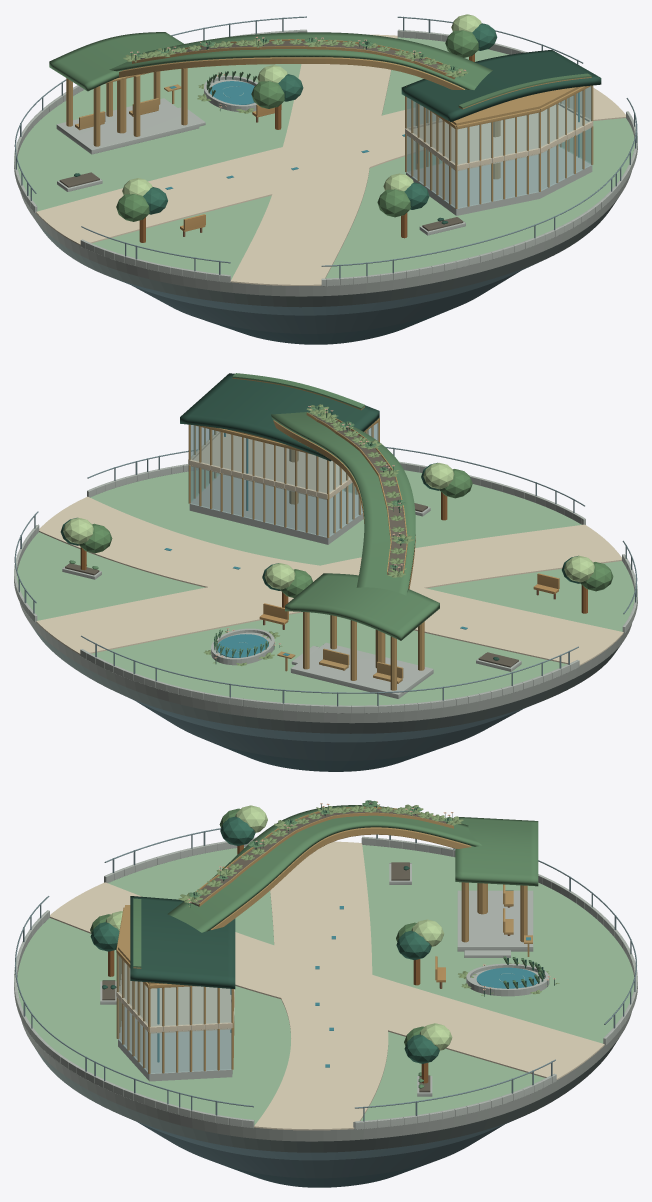
3 renders of one model, top to bottom at view 1: azimuth 30°, elevation 25°; view 2: azimuth 150°, elevation 25°; view 3: azimuth 270°, elevation 25°, orthographic. The views are drawn at different scales.
Parts seen in each view (by area): view 1: ROLE_terrain_Components__grass, ROLE_paving_Components__paveLight, ROLE_building_Components__mistglass, ROLE_building_Components__ecoWood, ROLE_building_Components__stone2, ROLE_roof_Components__ecoLeaf, ROLE_terrain_Components__stone2, ROLE_rails_Components__stone2, ROLE_roof_Components__ecoDeep, ROLE_terrain_Components__cliff3, ROLE_building_Components__paveLight, ROLE_terrain_Components__cliff2 (+15 smaller); view 2: ROLE_terrain_Components__grass, ROLE_paving_Components__paveLight, ROLE_roof_Components__ecoLeaf, ROLE_building_Components__mistglass, ROLE_building_Components__stone2, ROLE_rails_Components__stone2, ROLE_building_Components__ecoWood, ROLE_roof_Components__ecoDeep, ROLE_terrain_Components__stone2, ROLE_terrain_Components__cliff3, ROLE_terrain_Components__cliff2, ROLE_building_Components__paveLight (+14 smaller); view 3: ROLE_terrain_Components__grass, ROLE_paving_Components__paveLight, ROLE_roof_Components__ecoLeaf, ROLE_rails_Components__stone2, ROLE_building_Components__stone2, ROLE_building_Components__mistglass, ROLE_roof_Components__ecoDeep, ROLE_building_Components__ecoWood, ROLE_terrain_Components__stone2, ROLE_terrain_Components__cliff3, ROLE_terrain_Components__cliff2, ROLE_building_Components__paveLight (+14 smaller).
Boxes of the visible parts, box(x1,y1,x2,y2) form: ROLE_terrain_Components__grass: box(17, 37, 634, 279); ROLE_paving_Components__paveLight: box(36, 34, 625, 285); ROLE_building_Components__mistglass: box(406, 86, 592, 208); ROLE_building_Components__ecoWood: box(66, 57, 593, 208); ROLE_building_Components__stone2: box(56, 98, 592, 215); ROLE_roof_Components__ecoLeaf: box(49, 32, 492, 91); ROLE_terrain_Components__stone2: box(20, 171, 631, 296); ROLE_rails_Components__stone2: box(14, 29, 637, 286); ROLE_roof_Components__ecoDeep: box(401, 50, 601, 122); ROLE_terrain_Components__cliff3: box(35, 199, 617, 307); ROLE_building_Components__paveLight: box(405, 102, 593, 171); ROLE_terrain_Components__cliff2: box(132, 271, 519, 333); ROLE_terrain_Components__grass: box(17, 470, 634, 705); ROLE_paving_Components__paveLight: box(36, 496, 623, 665); ROLE_roof_Components__ecoLeaf: box(271, 411, 439, 640); ROLE_building_Components__mistglass: box(190, 422, 378, 537); ROLE_building_Components__stone2: box(189, 474, 433, 698); ROLE_rails_Components__stone2: box(14, 461, 637, 713); ROLE_building_Components__ecoWood: box(188, 418, 424, 690); ROLE_roof_Components__ecoDeep: box(180, 373, 379, 461); ROLE_terrain_Components__stone2: box(19, 602, 631, 723); ROLE_terrain_Components__cliff3: box(30, 624, 621, 733); ROLE_terrain_Components__cliff2: box(136, 701, 522, 760); ROLE_building_Components__paveLight: box(188, 431, 352, 499); ROLE_terrain_Components__grass: box(17, 845, 634, 1125); ROLE_paving_Components__paveLight: box(50, 841, 604, 1130); ROLE_roof_Components__ecoLeaf: box(167, 805, 538, 932); ROLE_rails_Components__stone2: box(14, 836, 637, 1129); ROLE_building_Components__stone2: box(118, 890, 533, 1081); ROLE_building_Components__mistglass: box(117, 954, 231, 1073); ROLE_roof_Components__ecoDeep: box(130, 896, 235, 989); ROLE_building_Components__ecoWood: box(116, 827, 527, 1073); ROLE_terrain_Components__stone2: box(21, 1012, 631, 1141); ROLE_terrain_Components__cliff3: box(34, 1038, 618, 1152); ROLE_terrain_Components__cliff2: box(138, 1122, 504, 1178); ROLE_building_Components__paveLight: box(116, 963, 234, 1033).
Size of the model in its own units: 33.65 by 16.28 by 30.81.
